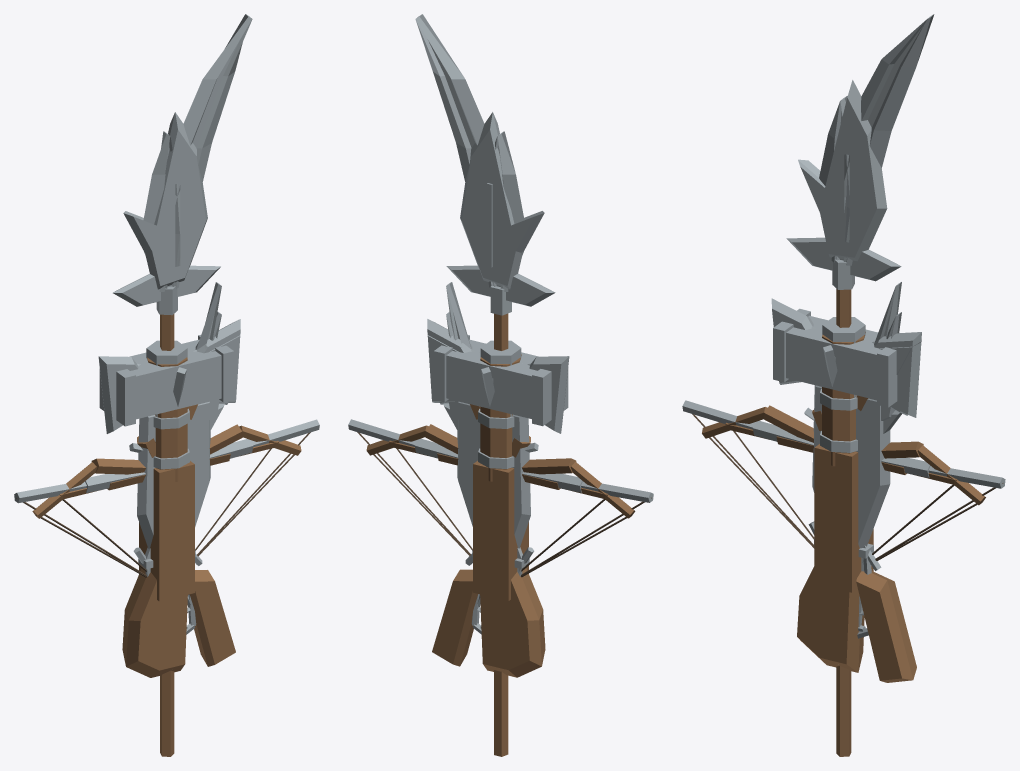
Rendered from weapons_v3.glb.
3 renders of one model, left to right at view 1: azimuth 30°, elevation 25°; view 2: azimuth 150°, elevation 25°; view 3: azimuth 330°, elevation 25°, orthographic. The views are drawn at different scales.
Visible parts, largest first — view 1: crossbow_look3, crossbow_look1, polearm_look2, hammer_look1, polearm_look1, crossbow_look2, cleaver_look3, polearm_look3, club_look1, axe_look3, hammer_look3, axe_look2 (+2 smaller); view 2: crossbow_look3, polearm_look2, crossbow_look1, hammer_look1, polearm_look1, crossbow_look2, cleaver_look3, polearm_look3, club_look1, axe_look3, hammer_look3, axe_look2 (+2 smaller); view 3: crossbow_look3, crossbow_look2, polearm_look2, polearm_look1, hammer_look1, crossbow_look1, cleaver_look3, polearm_look3, axe_look2, club_look1, hammer_look3, club_look2 (+2 smaller).
Part boxes in pixels (x1=…): crossbow_look3: x1=14, y1=419, x2=319, y2=601; crossbow_look1: x1=59, y1=441, x2=278, y2=677; polearm_look2: x1=123, y1=112, x2=207, y2=289; hammer_look1: x1=99, y1=335, x2=234, y2=426; polearm_look1: x1=156, y1=14, x2=252, y2=756; crossbow_look2: x1=32, y1=424, x2=301, y2=666; cleaver_look3: x1=137, y1=401, x2=210, y2=548; polearm_look3: x1=113, y1=131, x2=220, y2=306; club_look1: x1=129, y1=350, x2=196, y2=481; axe_look3: x1=98, y1=342, x2=228, y2=433; hammer_look3: x1=146, y1=340, x2=187, y2=417; axe_look2: x1=195, y1=319, x2=240, y2=402; crossbow_look3: x1=348, y1=419, x2=653, y2=601; polearm_look2: x1=460, y1=112, x2=544, y2=289; crossbow_look1: x1=389, y1=440, x2=608, y2=677; hammer_look1: x1=433, y1=335, x2=568, y2=426; polearm_look1: x1=415, y1=14, x2=511, y2=756; crossbow_look2: x1=366, y1=424, x2=635, y2=666; cleaver_look3: x1=457, y1=401, x2=530, y2=548; polearm_look3: x1=446, y1=131, x2=555, y2=306; club_look1: x1=471, y1=349, x2=538, y2=481; axe_look3: x1=439, y1=343, x2=569, y2=433; hammer_look3: x1=480, y1=340, x2=522, y2=416; axe_look2: x1=427, y1=319, x2=472, y2=402; crossbow_look3: x1=682, y1=400, x2=1005, y2=592; crossbow_look2: x1=702, y1=405, x2=985, y2=682; polearm_look2: x1=798, y1=80, x2=887, y2=261; polearm_look1: x1=831, y1=14, x2=934, y2=756; hammer_look1: x1=773, y1=308, x2=897, y2=407; crossbow_look1: x1=725, y1=422, x2=957, y2=672; cleaver_look3: x1=812, y1=385, x2=890, y2=548; polearm_look3: x1=786, y1=96, x2=901, y2=281; axe_look2: x1=874, y1=332, x2=921, y2=417; club_look1: x1=804, y1=326, x2=874, y2=466; hammer_look3: x1=822, y1=317, x2=865, y2=397; club_look2: x1=820, y1=357, x2=857, y2=452.
Size of the model in its own units: 1.1 by 2.51 by 0.2243.
